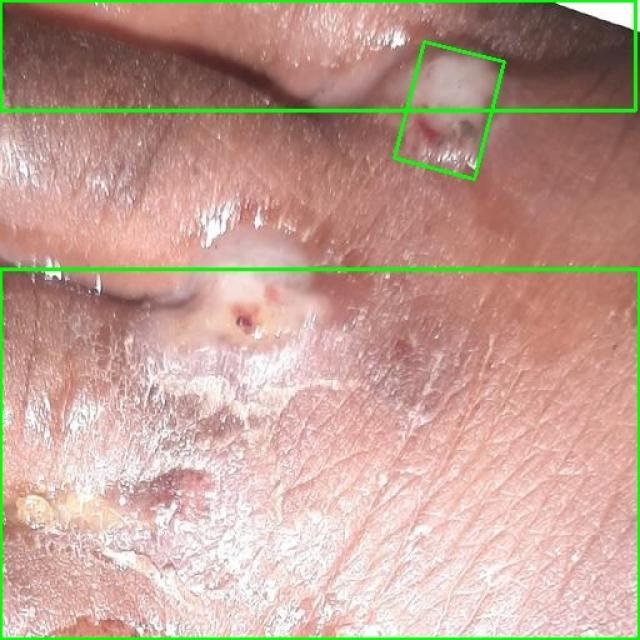Eczema: (0, 269, 639, 639), (0, 0, 635, 110), (395, 41, 505, 179)
